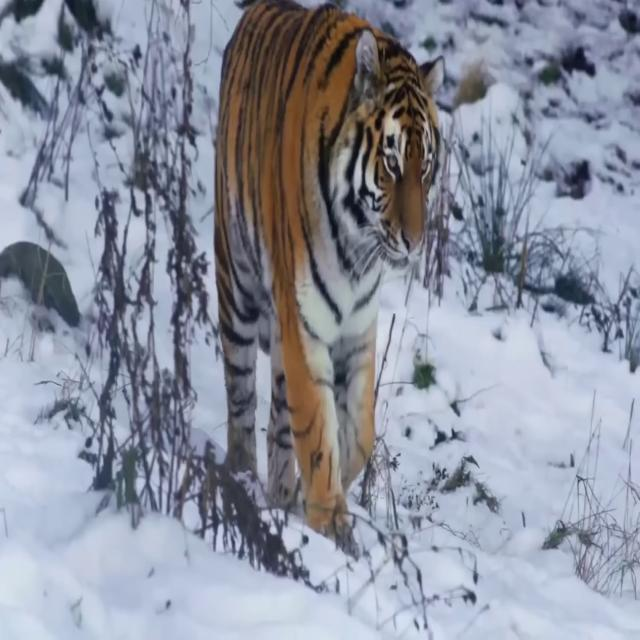tiger: (213, 2, 445, 570)
